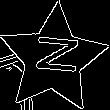N_W: (27, 37, 80, 81)
